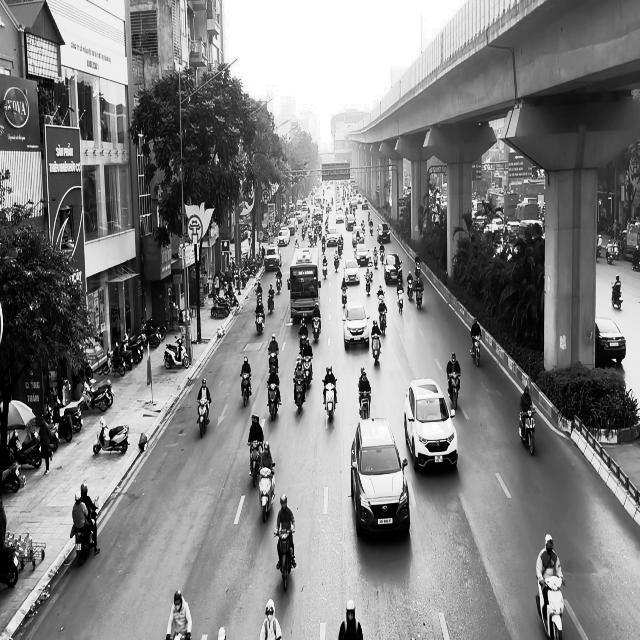bus: (289, 248, 320, 322)
car: (350, 416, 410, 537), (404, 378, 458, 471), (595, 317, 626, 366), (342, 300, 370, 350), (384, 253, 402, 284), (343, 258, 360, 284)
motorbike: (71, 495, 100, 566), (536, 574, 566, 640), (274, 526, 296, 592), (93, 416, 129, 454), (258, 463, 276, 522), (163, 336, 190, 368), (518, 408, 536, 455), (248, 439, 263, 487), (322, 378, 337, 421), (196, 398, 211, 438), (266, 380, 281, 420), (293, 376, 306, 414), (448, 371, 460, 409), (240, 371, 252, 407), (469, 334, 482, 367), (358, 390, 371, 420), (611, 282, 623, 309), (371, 332, 381, 362), (268, 347, 278, 374), (378, 306, 387, 336), (255, 306, 264, 335), (414, 284, 424, 310), (312, 316, 321, 342), (396, 288, 404, 315), (267, 292, 274, 314), (275, 272, 282, 293), (606, 247, 614, 264), (341, 285, 347, 306), (322, 258, 328, 279)
